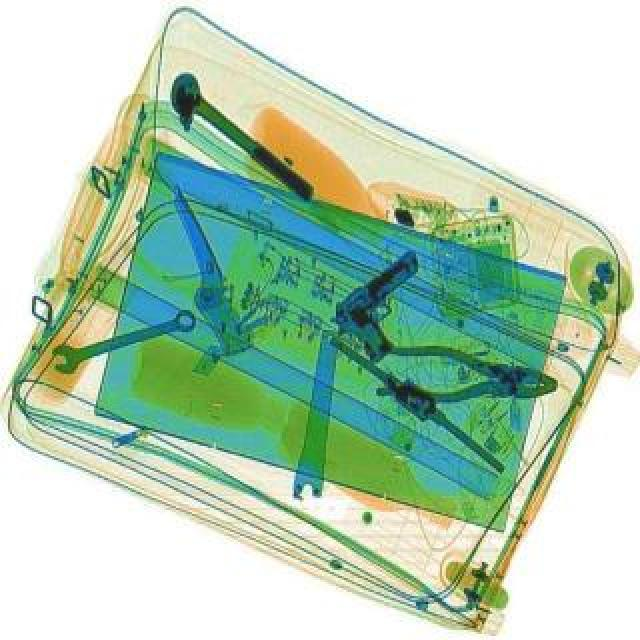gun: (318, 244, 458, 366)
scissors: (44, 302, 200, 376)
wrench: (372, 338, 560, 412)
